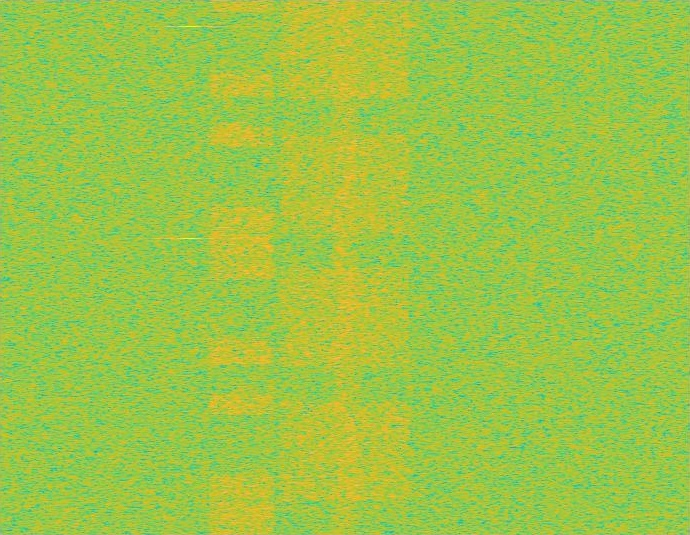5G: (276, 0, 414, 534)
DSSS: (329, 0, 361, 534)
LTE: (207, 0, 276, 534)
Radar: (183, 0, 197, 534)
